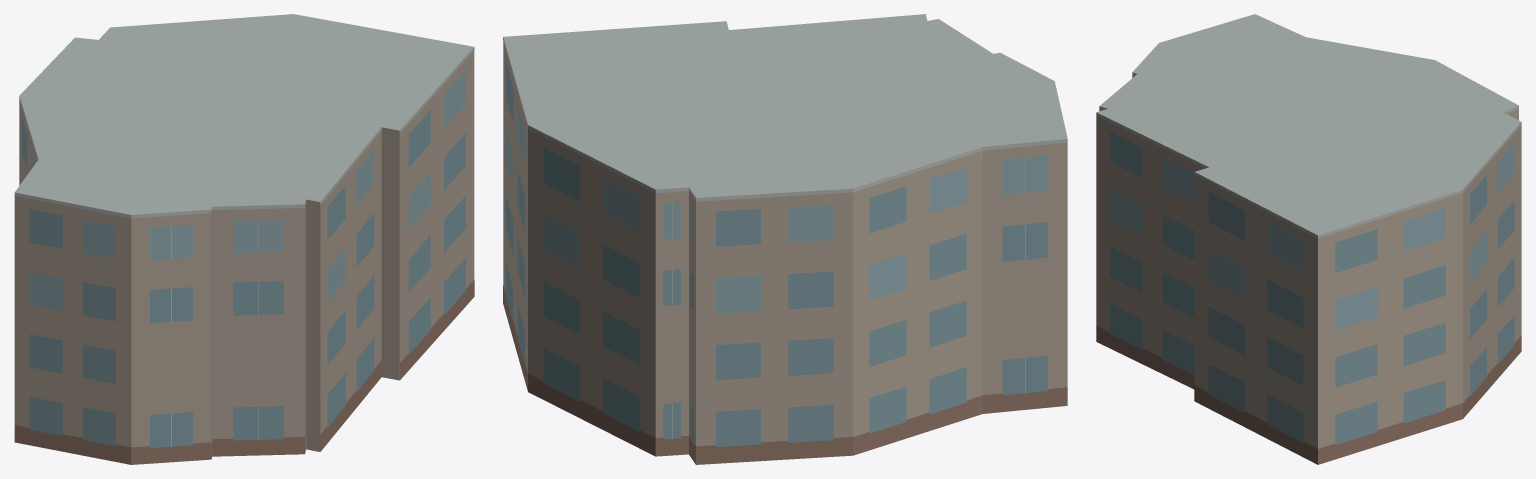
The model's file is survey-upis-32904010.glb.
3 views of the same model, side by side, from view 1: azimuth 30°, elevation 25°; view 2: azimuth 150°, elevation 25°; view 3: azimuth 270°, elevation 25° (orthographic). The views are drawn at different scales.
Parts seen in each view (by area): view 1: survey-upis-32904010.tmp; view 2: survey-upis-32904010.tmp; view 3: survey-upis-32904010.tmp.
Boxes of the visible parts, x1,y1,x2,y2 form: survey-upis-32904010.tmp: [14, 14, 474, 464]; survey-upis-32904010.tmp: [503, 14, 1067, 464]; survey-upis-32904010.tmp: [1096, 14, 1521, 464].
Size of the model in its own units: 36.01 by 17.4 by 29.24.
